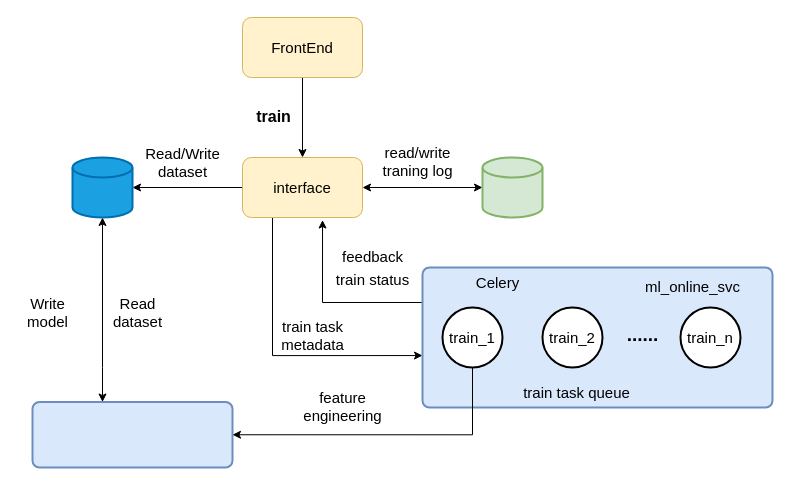
Image size: 790x486. Some labels were removed from this diagram. The shapes that lost their labels are listed below. From the top down, each one's centre as x and y in pixels, then its label:
[102,187]: MinIO
[512,187]: sqlite
[132,434]: webshell
